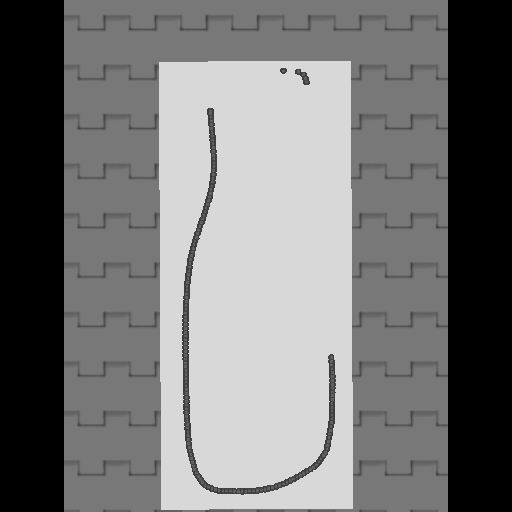Defect: (296, 80, 338, 361)
